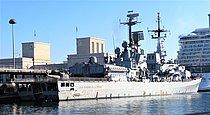MIL_Ship: (40, 10, 200, 98)
